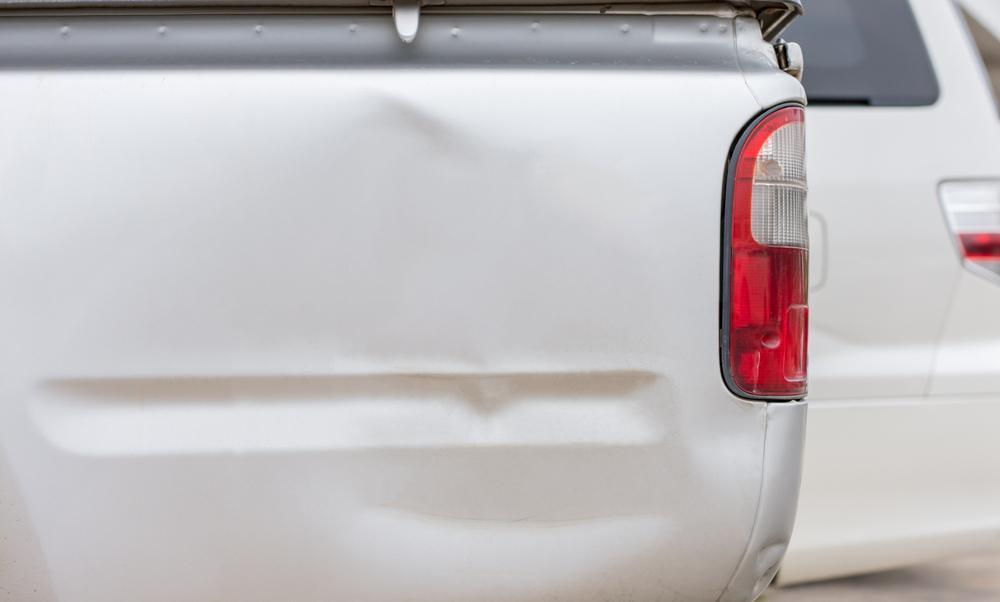dent: (177, 101, 631, 375), (317, 445, 704, 595)
